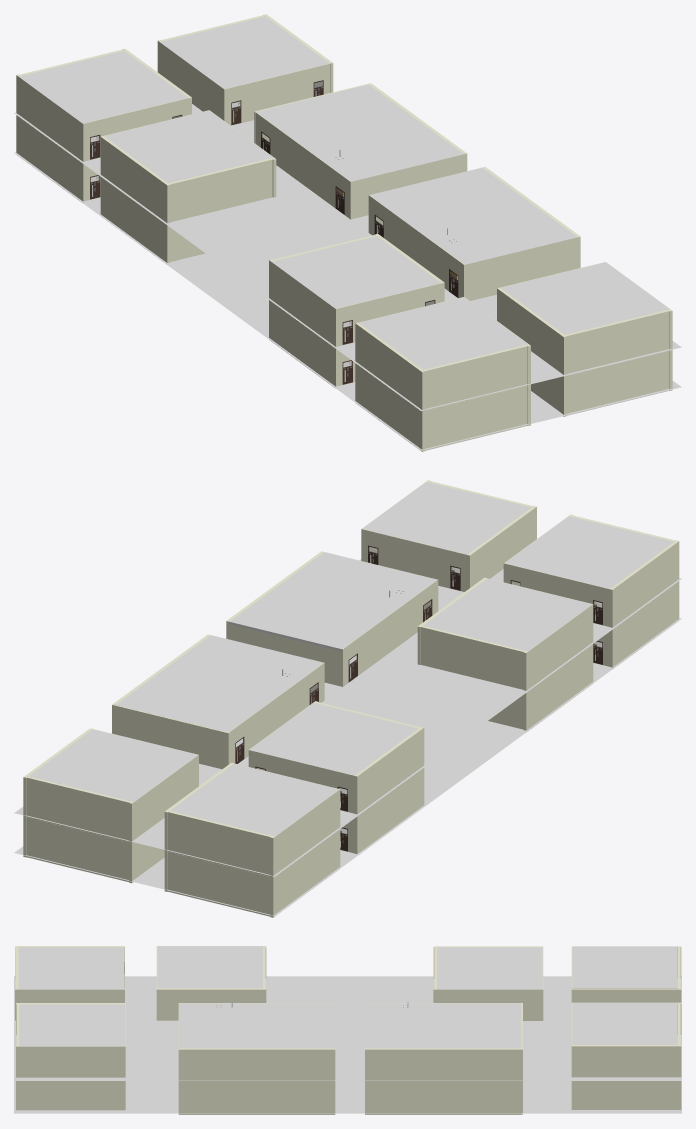
The model's file is NB-Building.fbx.
3 renders of one model, top to bottom at view 1: azimuth 30°, elevation 25°; view 2: azimuth 150°, elevation 25°; view 3: azimuth 270°, elevation 25°, orthographic. The views are drawn at different scales.
Visible parts, largest first — view 1: Plane.001, Ceiling.002, Ceiling.003, Ceiling.005, Ceiling.012, Ceiling.013, Ceiling.004, Ceiling.015, Ceiling.014, Plane, SideW2.025, SideW2.004 (+21 smaller); view 2: Plane.001, Ceiling.002, Ceiling.003, Ceiling.004, Ceiling.005, Ceiling.012, Ceiling.013, Ceiling.014, Ceiling.015, Plane, SideW2.034, SideW2.031 (+22 smaller); view 3: Plane.001, Ceiling.003, Ceiling.002, Plane, SideW2.002, SideW2.003, SideW2, SideW2.001, Ceiling.005, Ceiling.004, Ceiling.012, Ceiling.014 (+11 smaller).
Part boxes in pixels (left/top/right/bottom): Plane.001: left=14, top=104, right=681, bottom=410; Ceiling.002: left=369, top=167, right=576, bottom=264; Ceiling.003: left=256, top=84, right=463, bottom=181; Ceiling.005: left=359, top=297, right=527, bottom=369; Ceiling.012: left=272, top=236, right=440, bottom=308; Ceiling.013: left=160, top=16, right=329, bottom=88; Ceiling.004: left=500, top=262, right=669, bottom=334; Ceiling.015: left=104, top=110, right=273, bottom=182; Ceiling.014: left=19, top=51, right=187, bottom=123; Plane: left=14, top=152, right=681, bottom=450; SideW2.025: left=423, top=345, right=527, bottom=410; SideW2.004: left=565, top=309, right=671, bottom=375; Plane.001: left=14, top=559, right=681, bottom=876; Ceiling.002: left=229, top=552, right=436, bottom=651; Ceiling.003: left=116, top=635, right=323, bottom=732; Ceiling.004: left=362, top=482, right=531, bottom=554; Ceiling.005: left=505, top=516, right=673, bottom=588; Ceiling.012: left=423, top=578, right=591, bottom=651; Ceiling.013: left=29, top=729, right=197, bottom=801; Ceiling.014: left=170, top=763, right=338, bottom=836; Ceiling.015: left=249, top=703, right=418, bottom=775; Plane: left=14, top=618, right=681, bottom=916; SideW2.034: left=168, top=811, right=274, bottom=876; SideW2.031: left=26, top=776, right=133, bottom=842; Plane.001: left=14, top=976, right=681, bottom=1080; Ceiling.003: left=365, top=1003, right=521, bottom=1048; Ceiling.002: left=179, top=1003, right=334, bottom=1048; Plane: left=14, top=1081, right=681, bottom=1113; SideW2.002: left=179, top=1048, right=335, bottom=1082; SideW2.003: left=365, top=1048, right=521, bottom=1082; SideW2: left=179, top=1082, right=335, bottom=1114; SideW2.001: left=365, top=1082, right=521, bottom=1114; Ceiling.005: left=18, top=947, right=124, bottom=989; Ceiling.004: left=19, top=1004, right=124, bottom=1046; Ceiling.012: left=157, top=946, right=262, bottom=988; Ceiling.014: left=572, top=946, right=677, bottom=988.
Size of what is drawn, in the model's own units: 1907 by 617 by 5154.
69 materials, 25 textured.
